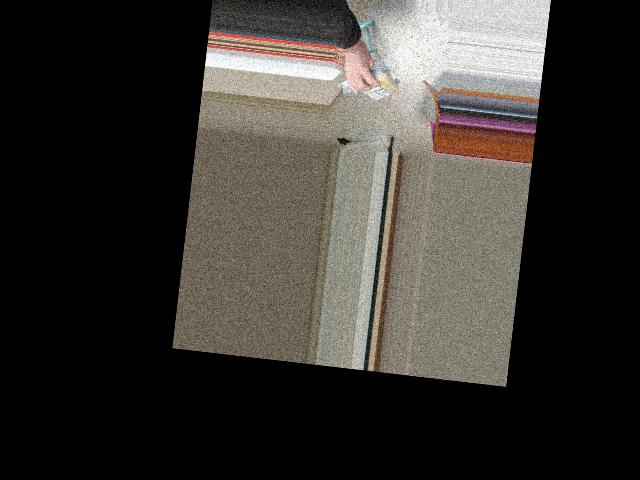cheese: (336, 67, 400, 104)
